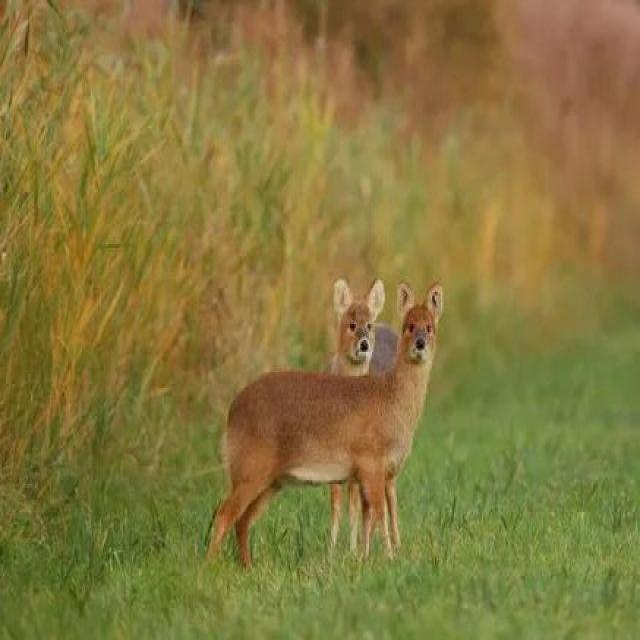deer: (216, 247, 438, 548)
